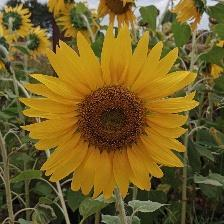sunflower: (17, 21, 203, 202), (1, 4, 34, 39), (97, 1, 138, 25), (31, 25, 52, 56)
